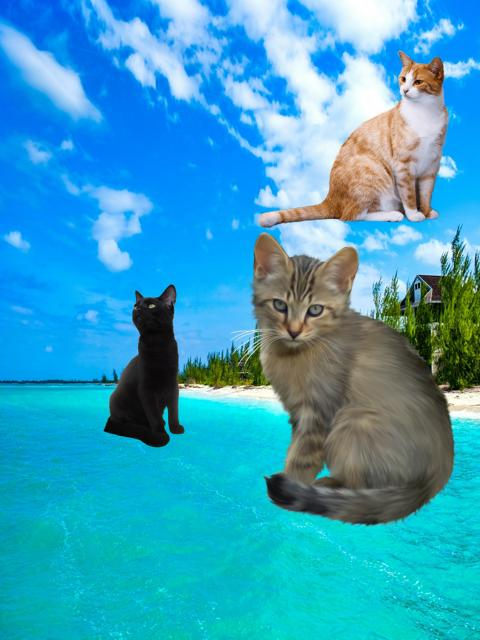cat: (232, 232, 461, 528), (258, 51, 449, 227), (99, 281, 202, 451)
